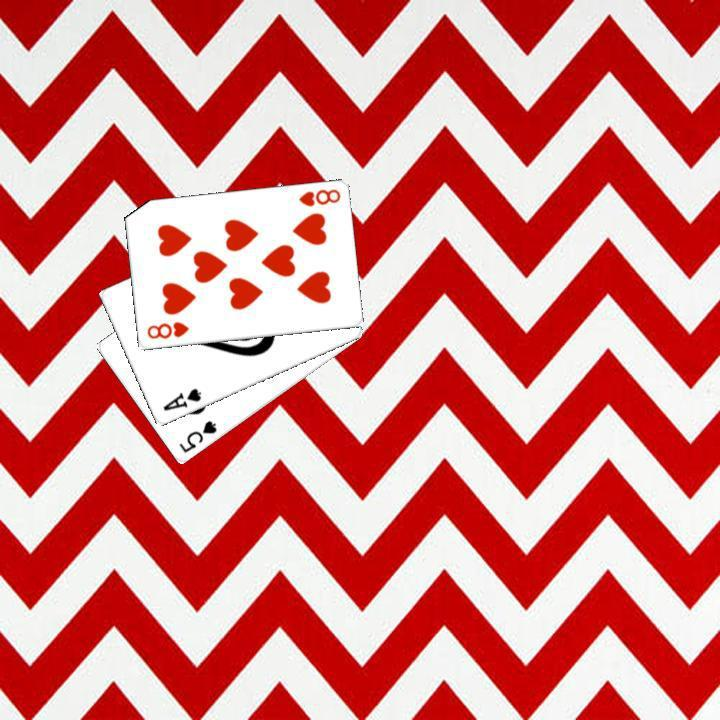5: (175, 416, 219, 455)
8: (142, 317, 191, 341), (294, 185, 342, 209)
A: (159, 384, 203, 413)
